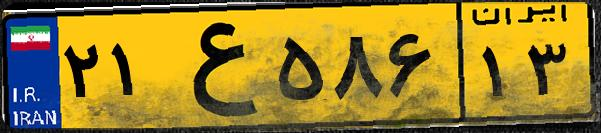1: (475, 38, 525, 113), (110, 28, 158, 98)
2: (57, 26, 110, 100)
3: (525, 38, 570, 115)
5: (270, 28, 330, 110)
6: (385, 28, 445, 110)
8: (330, 28, 385, 110)
ع: (158, 12, 270, 120)
